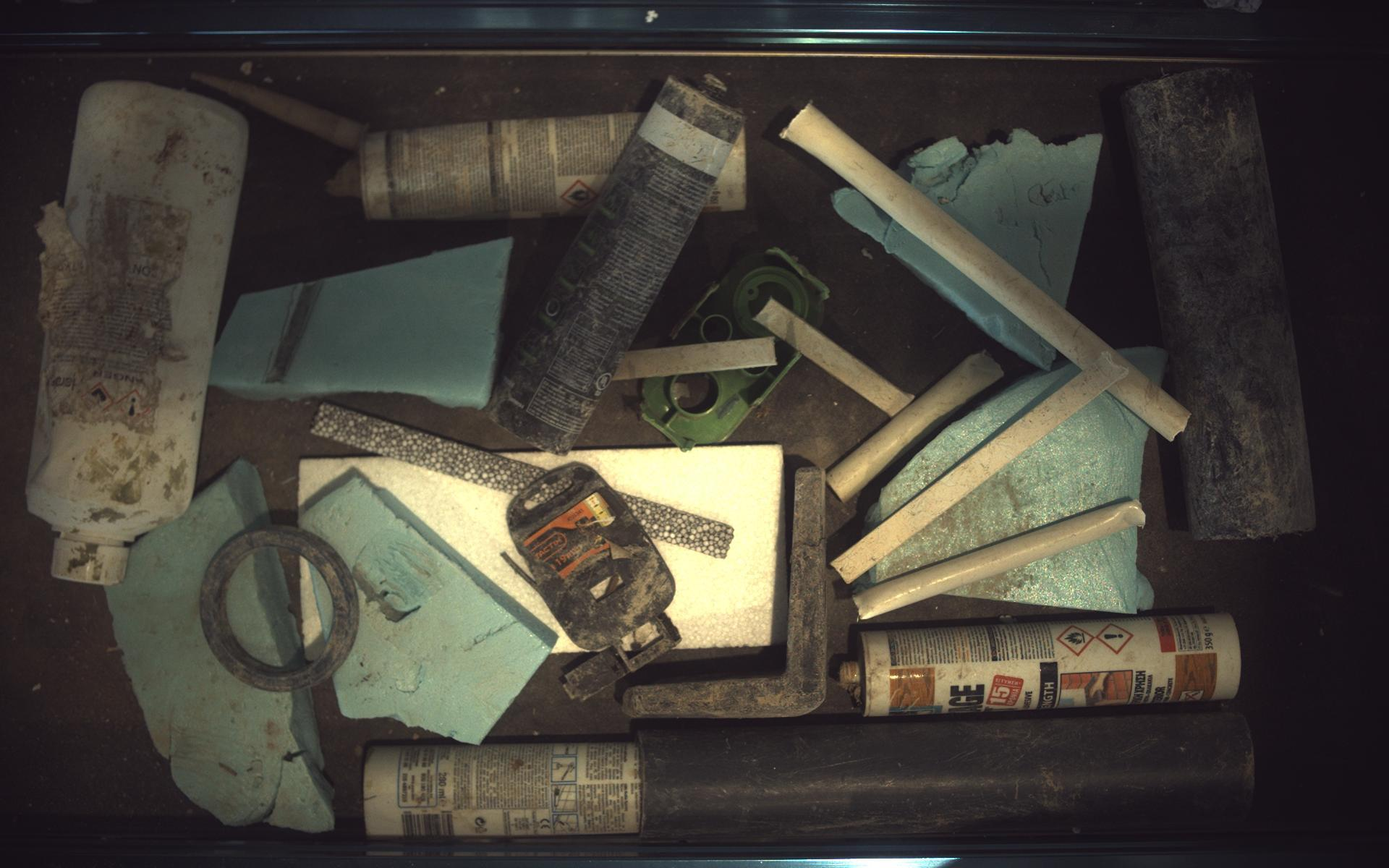foam: (105, 459, 334, 833), (300, 474, 558, 745), (502, 445, 788, 651), (298, 455, 586, 655), (857, 394, 1154, 587), (209, 237, 513, 408), (834, 187, 1058, 369), (899, 128, 1105, 305), (867, 363, 1081, 532), (310, 402, 545, 495), (956, 530, 1157, 615), (226, 550, 301, 665), (623, 495, 735, 559), (301, 558, 326, 663), (308, 561, 334, 649), (1123, 346, 1170, 383), (622, 622, 662, 655)
pipes: (782, 103, 1193, 440), (1126, 67, 1319, 540), (639, 708, 1257, 843), (856, 500, 1148, 621), (828, 351, 1005, 502)
plastic: (25, 80, 247, 584), (490, 75, 744, 454), (834, 351, 1132, 584), (192, 72, 645, 219), (623, 467, 828, 719), (500, 462, 682, 700), (844, 613, 1244, 718), (199, 527, 359, 692), (365, 743, 641, 838), (756, 299, 916, 417), (642, 343, 802, 451), (673, 248, 831, 344), (613, 336, 776, 380), (705, 129, 747, 210)
